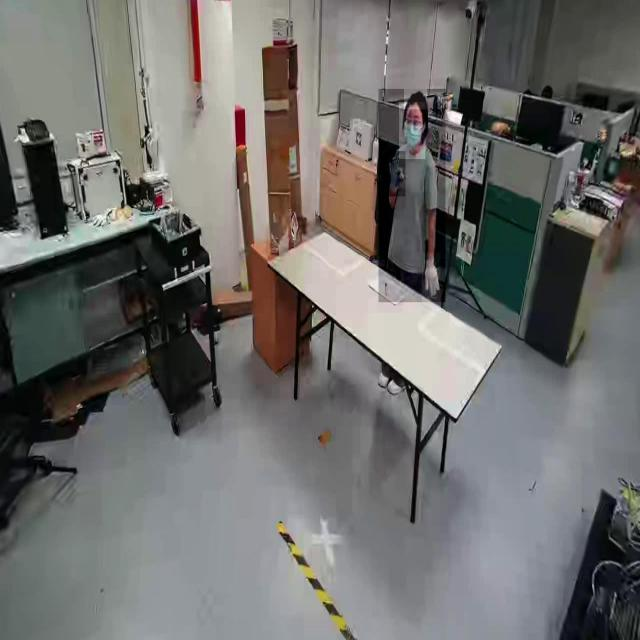face_mask: (399, 102, 425, 159)
hand_glove: (422, 253, 441, 303), (386, 151, 406, 197)
head_nohelmet: (404, 89, 428, 110)
person: (378, 89, 446, 303)
